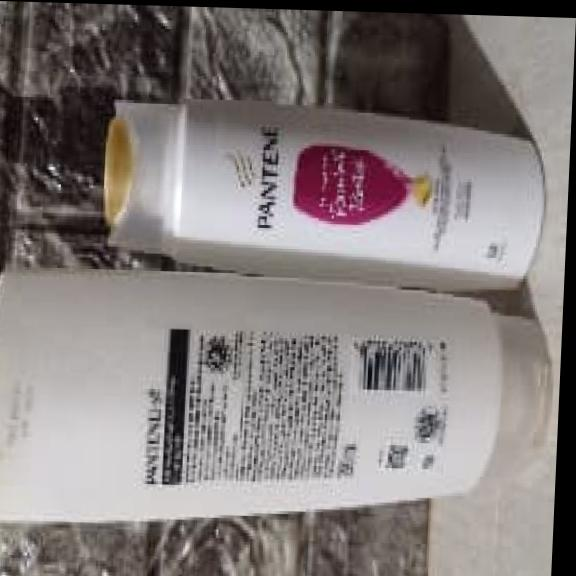Plastik: (0, 91, 557, 539)
